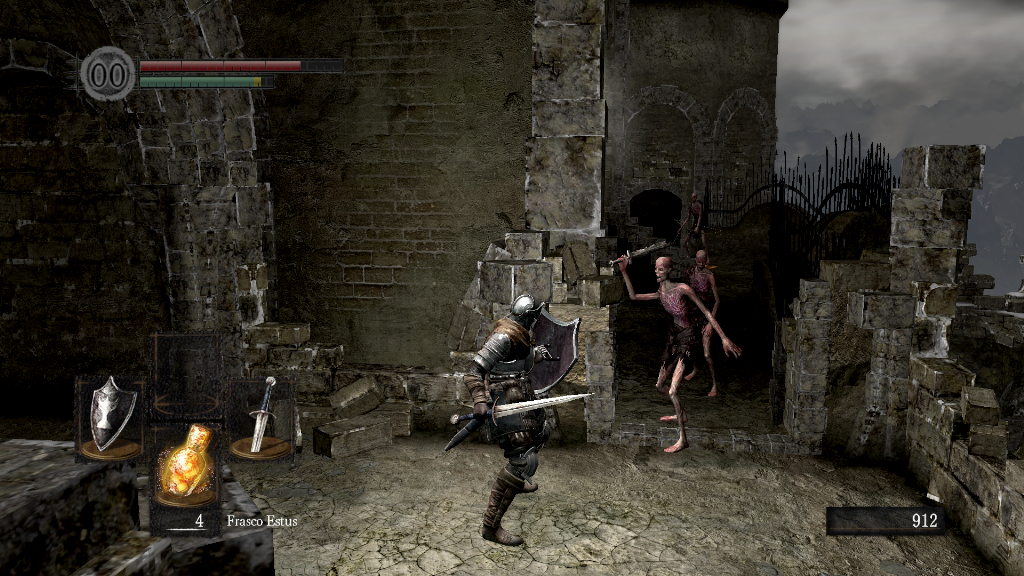health: (138, 58, 343, 71)
hollow: (610, 243, 745, 457), (683, 248, 722, 400), (679, 187, 711, 259)
humanity: (80, 45, 136, 102)
player: (443, 293, 597, 546)
souls: (825, 506, 945, 536)
stamina: (138, 74, 274, 88)
